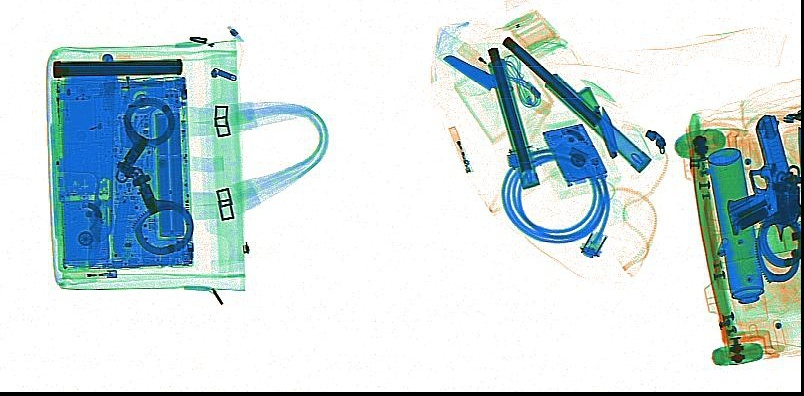handcuffs: (116, 93, 193, 252), (754, 163, 799, 285)
knife: (58, 65, 115, 241), (439, 50, 513, 93), (594, 101, 618, 158)
lighter: (456, 38, 499, 77), (445, 119, 473, 173), (57, 266, 119, 281)
pressure: (705, 145, 765, 305)
